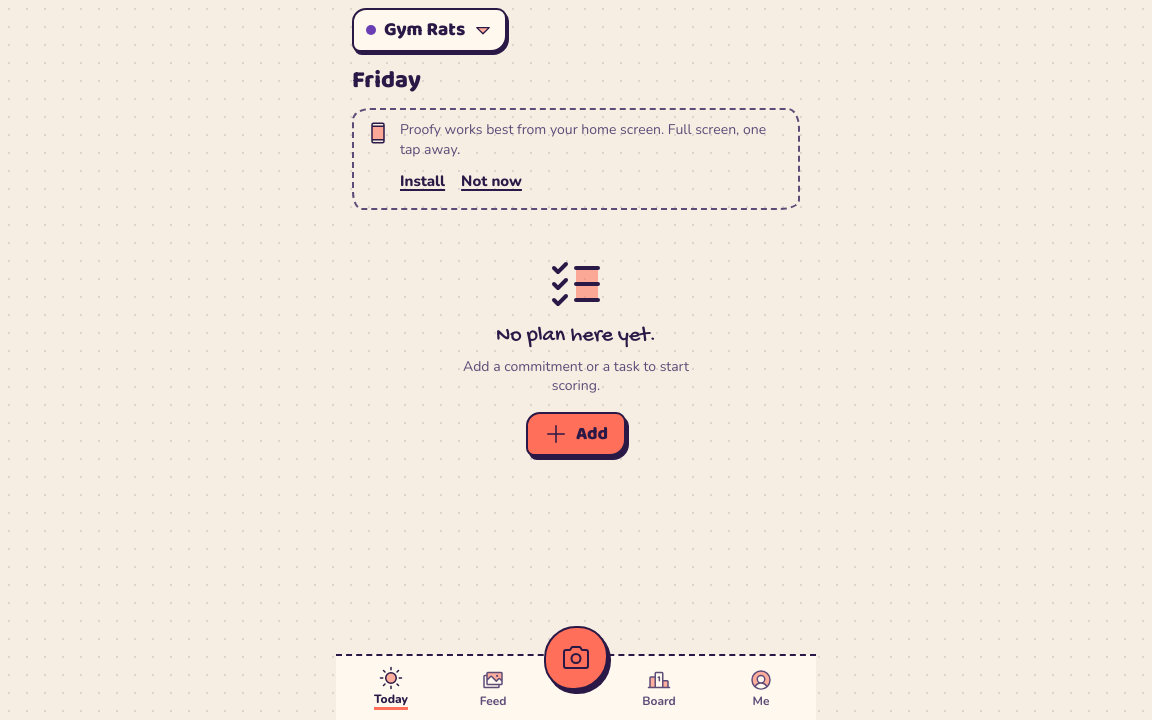
it: Plan sheet (add a commitment) › a locked activity shows only its segment, the lock note, and sends the locked type
Click the button with aria-label "Add a commitment or task".
click(576, 434)  # box left=526, top=412, right=626, bottom=456
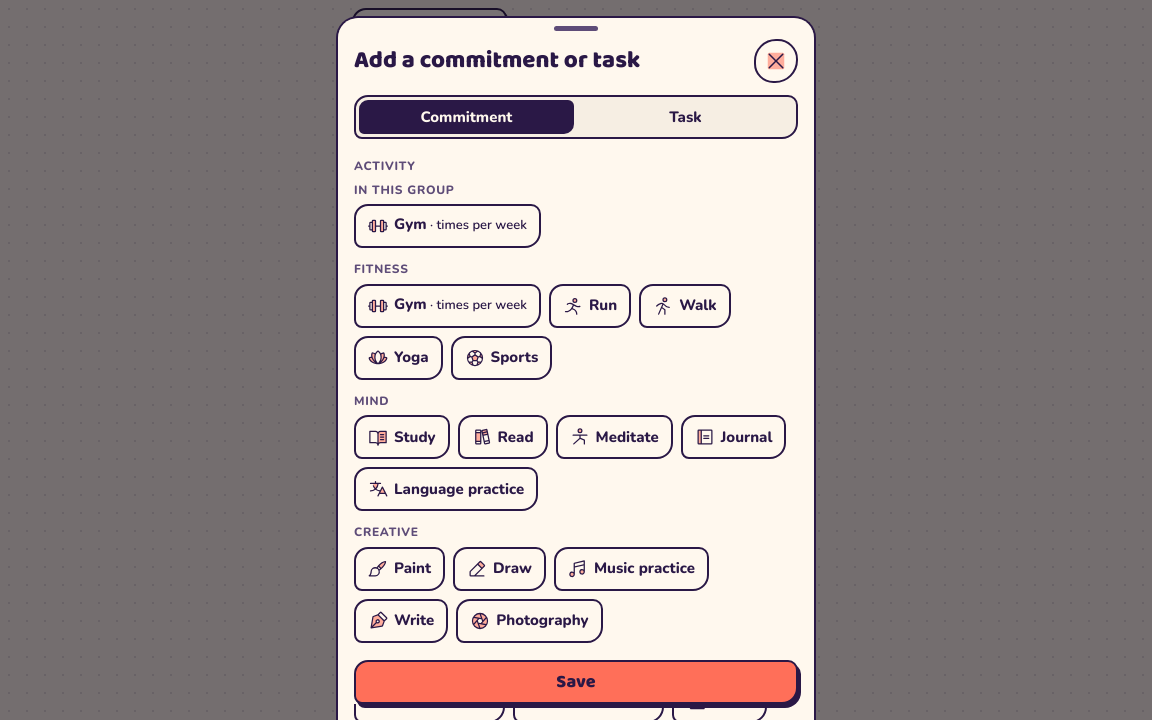
Expected: the radio button labelled "Run" is shown, left=549, top=284, right=631, bottom=328
Click the radio button with aria-label "Gym, times per week".
click(447, 226)  # box left=354, top=204, right=541, bottom=248
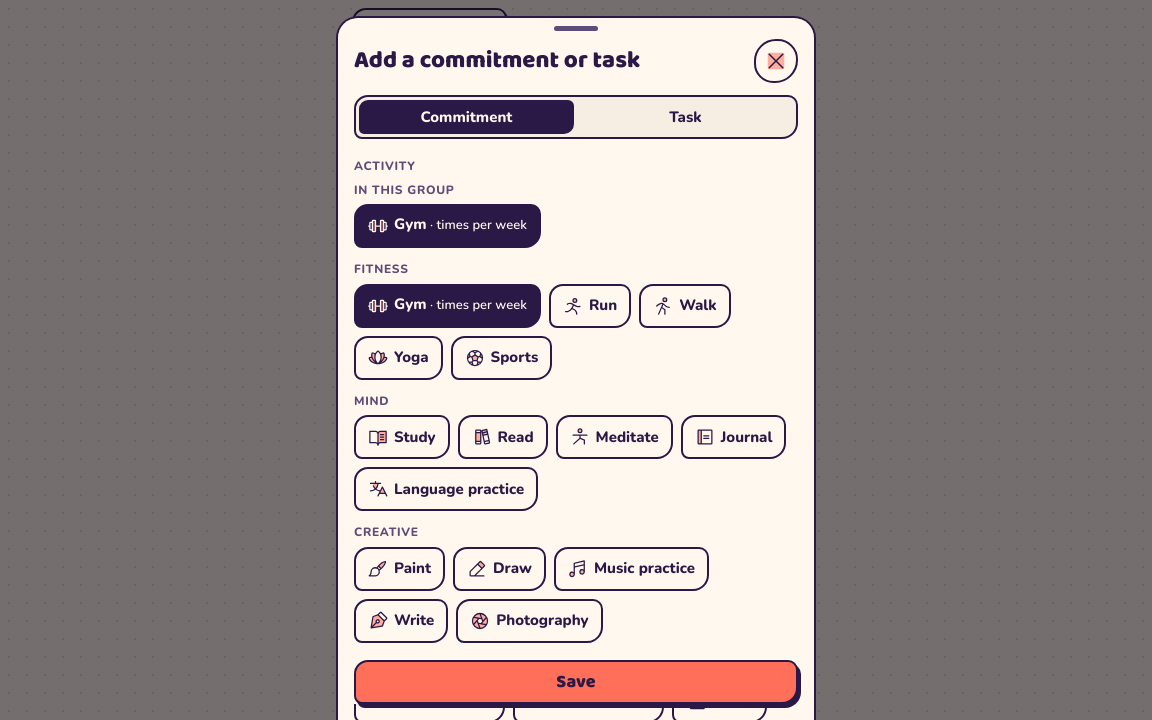
Click the button "Save".
click(576, 682)  # box left=354, top=660, right=798, bottom=704
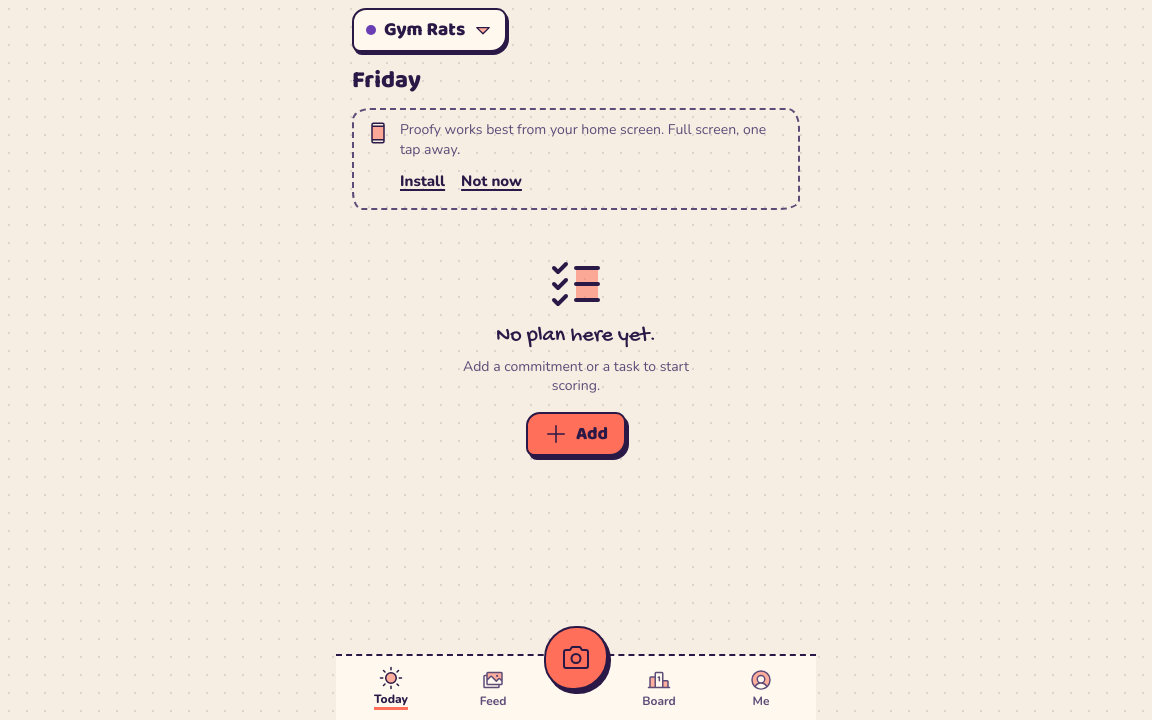
Expected: the dialog is gone
